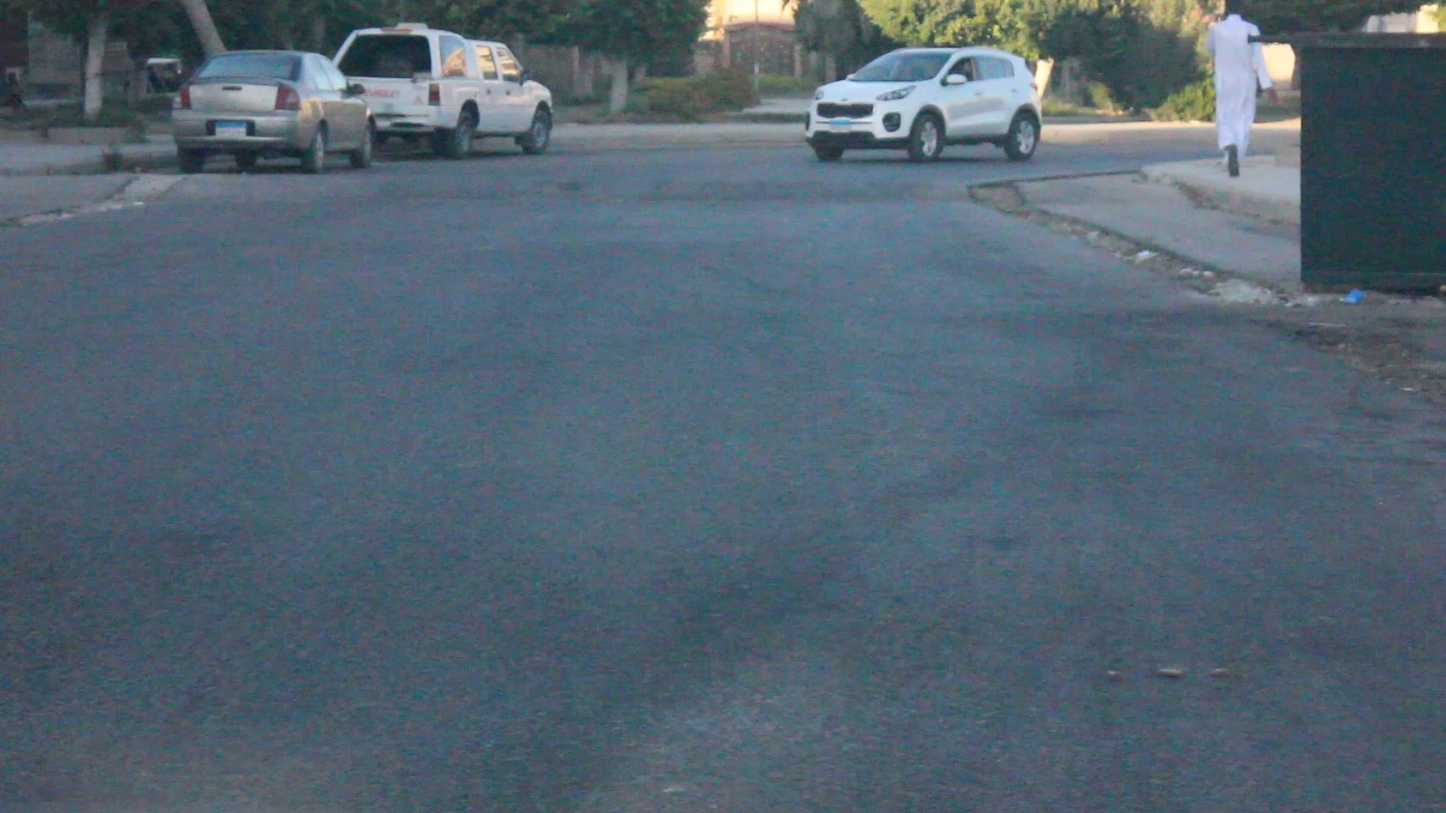Bump: (120, 167, 987, 205)
